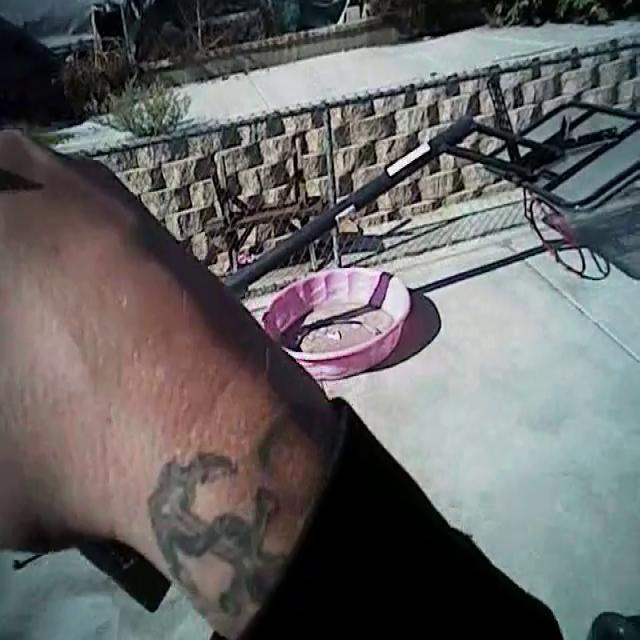gun: (0, 106, 239, 630)
